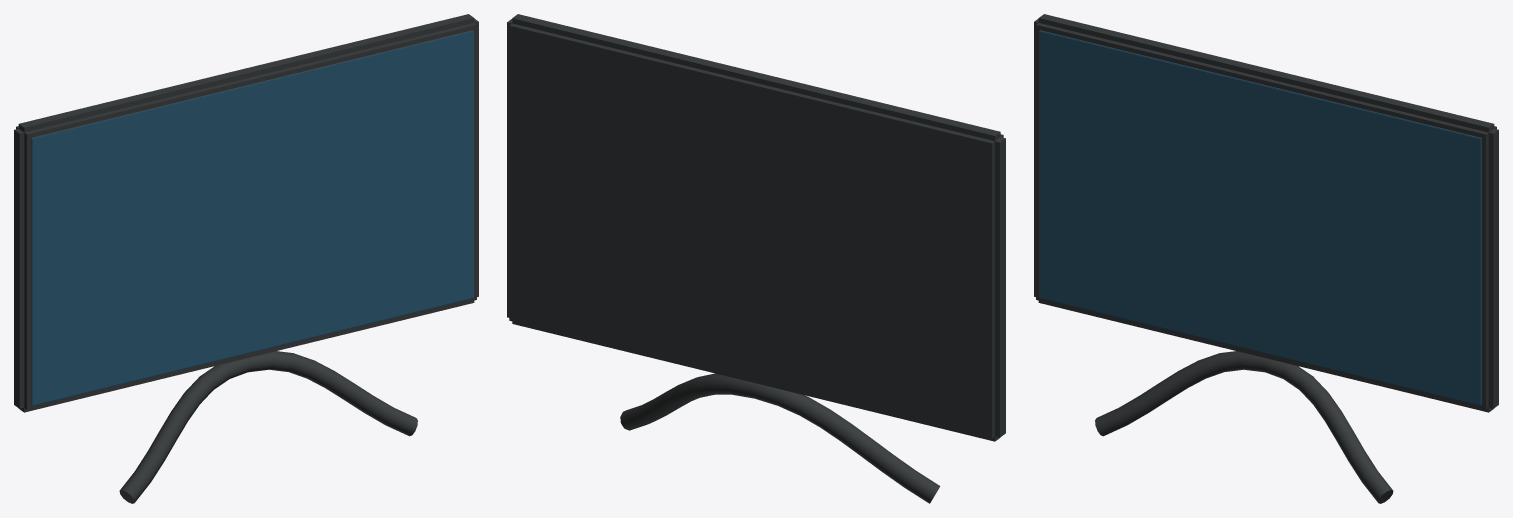
File: sku_tv.glb
3 views of the same model, side by side, from view 1: azimuth 30°, elevation 25°; view 2: azimuth 150°, elevation 25°; view 3: azimuth 330°, elevation 25° (orthographic). The views are drawn at different scales.
Visible parts, largest first — view 1: sku_tv_FY21_display_screen, sku_tv_Anodised_graphite; view 2: sku_tv_Anodised_graphite; view 3: sku_tv_FY21_display_screen, sku_tv_Anodised_graphite.
Part boxes in pixels (bbox=[...]): sku_tv_FY21_display_screen: bbox=[31, 30, 473, 405]; sku_tv_Anodised_graphite: bbox=[14, 14, 478, 503]; sku_tv_Anodised_graphite: bbox=[507, 14, 1005, 503]; sku_tv_FY21_display_screen: bbox=[1039, 30, 1481, 405]; sku_tv_Anodised_graphite: bbox=[1034, 14, 1498, 503].
Bounding box in the file's own units: 1.35 × 1.07 × 0.1715.
